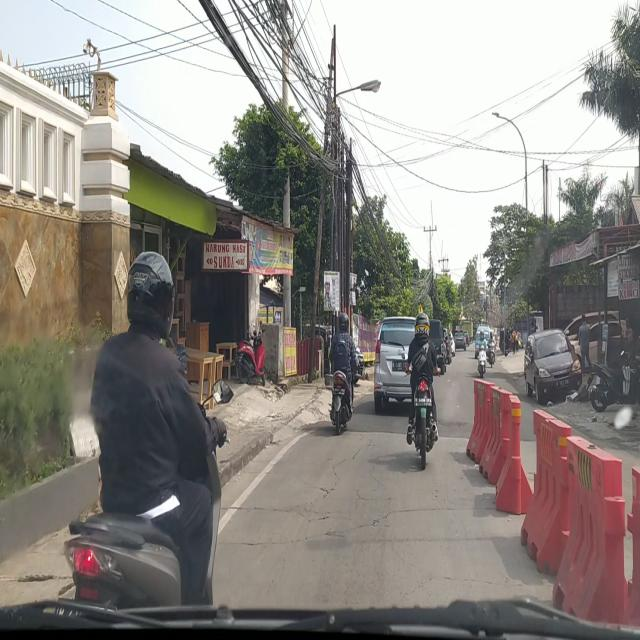Drain Hole: (282, 440, 392, 540)
Sewer Cover: (397, 502, 492, 517), (223, 503, 283, 515)
